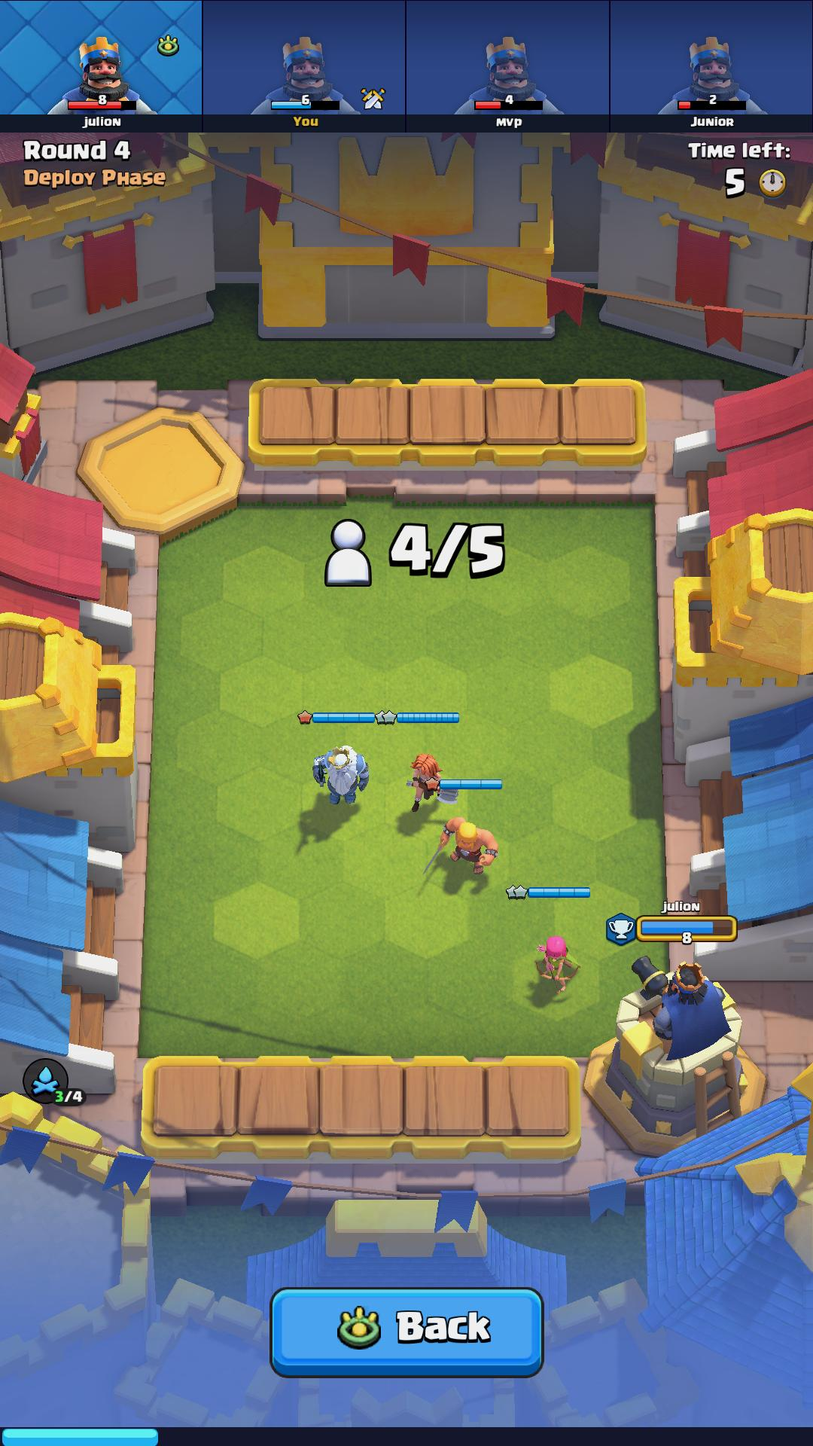archer: (531, 930, 583, 999)
barbarian: (432, 811, 501, 880)
ghost: (304, 731, 375, 812)
valkyrie: (400, 747, 457, 815)
